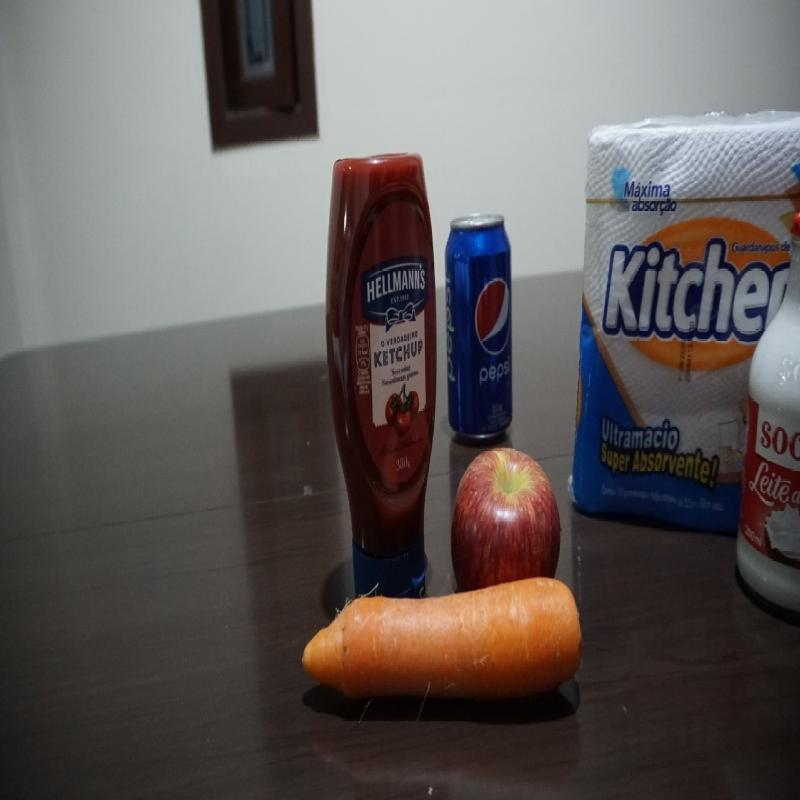Apple: (452, 446, 565, 592)
Carrot: (298, 579, 586, 709)
Coconut Milk: (735, 207, 800, 629)
Ketchup: (323, 145, 441, 616)
Napkin: (570, 108, 800, 542)
Soda can: (442, 208, 519, 443)
